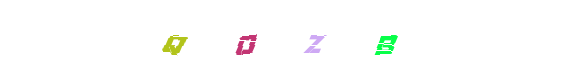B: (346, 0, 426, 80)
O: (206, 0, 286, 80)
Q: (134, 0, 214, 80)
Z: (250, 0, 330, 80)
